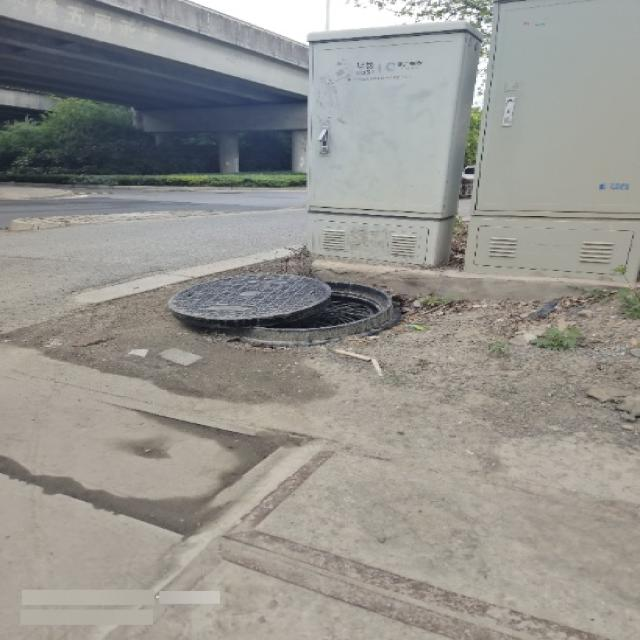Lose: (165, 272, 417, 350)
